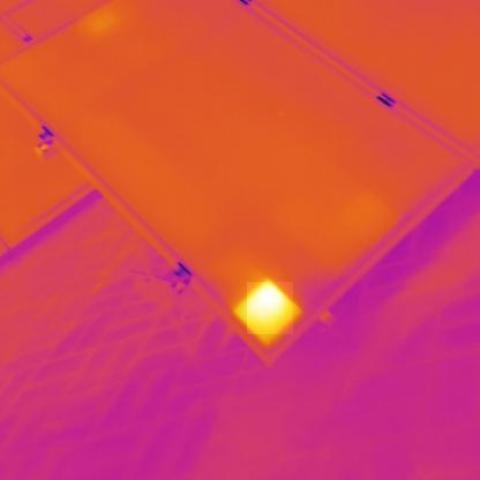fault: (248, 282, 294, 334)
